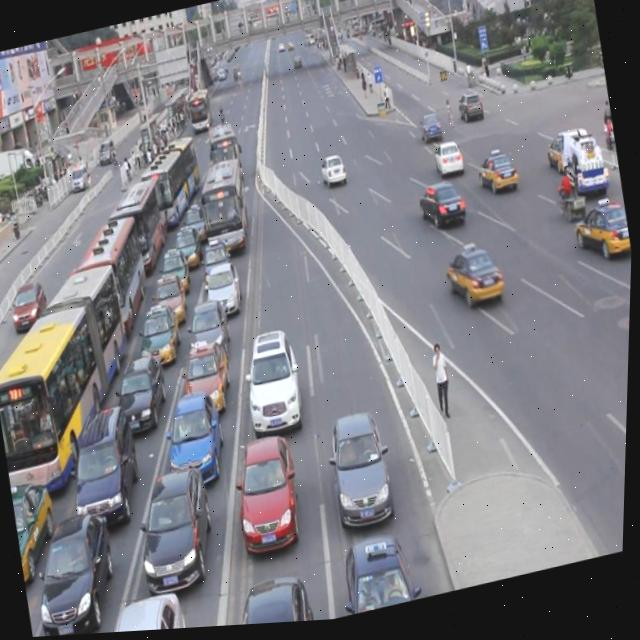bus: (554, 128, 610, 206)
car: (27, 509, 128, 638), (132, 464, 225, 596), (62, 403, 149, 529), (323, 411, 402, 532), (230, 438, 309, 553), (239, 330, 310, 439), (338, 536, 424, 620), (162, 390, 231, 486), (11, 478, 65, 586), (112, 351, 174, 436), (440, 242, 507, 316), (226, 576, 318, 629), (177, 340, 236, 419), (92, 589, 193, 635), (570, 200, 634, 271), (185, 300, 236, 368), (136, 304, 187, 369), (415, 181, 469, 237), (475, 151, 520, 204), (205, 262, 246, 319), (150, 271, 191, 327), (10, 279, 52, 332), (156, 248, 194, 298), (200, 238, 234, 289), (171, 224, 204, 270), (180, 201, 213, 246), (432, 142, 464, 183), (454, 93, 486, 133), (320, 155, 349, 193), (544, 140, 574, 175), (418, 117, 442, 149), (64, 265, 87, 295)
van: (0, 263, 151, 498), (65, 212, 157, 345), (136, 131, 207, 228), (195, 161, 256, 267), (109, 176, 171, 276), (204, 122, 247, 188)
